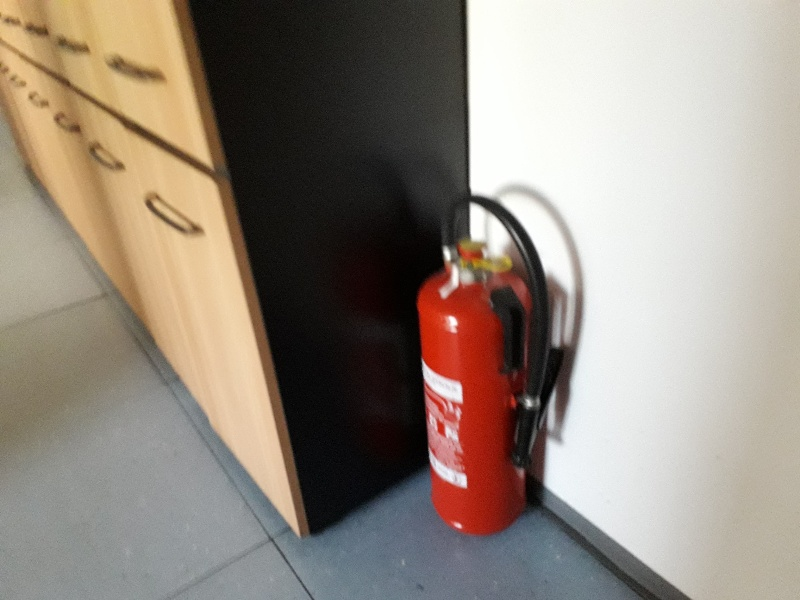vataparat: (415, 195, 563, 536)
